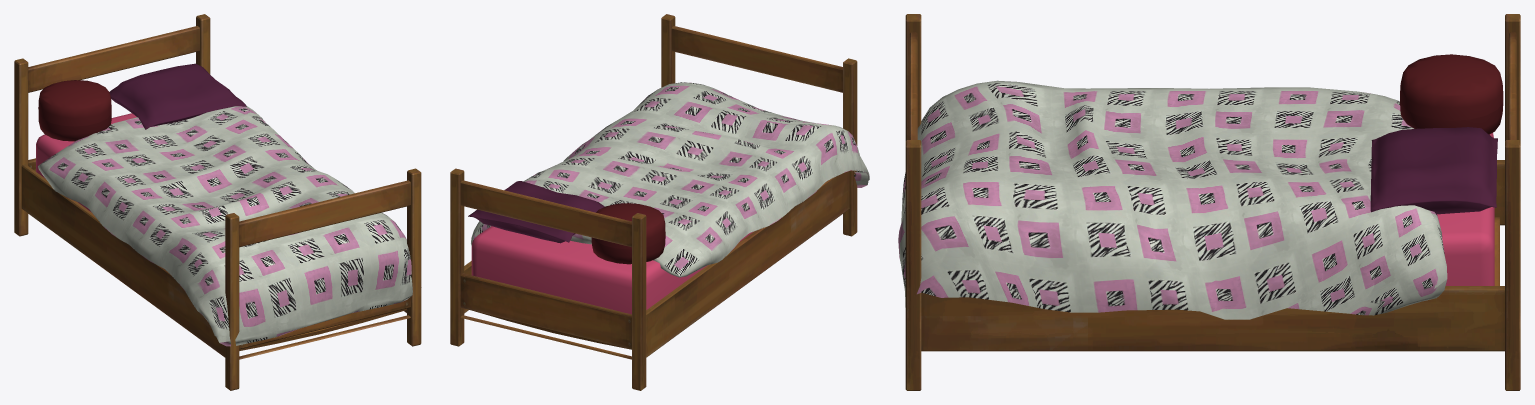
Rendered from Cama_H1.obj.
3 renders of one model, left to right at view 1: azimuth 30°, elevation 25°; view 2: azimuth 150°, elevation 25°; view 3: azimuth 270°, elevation 25°, orthographic. The views are drawn at different scales.
Visible parts, largest first — view 1: Cama_H1; view 2: Cama_H1; view 3: Cama_H1.
Boxes of the visible parts, x1,y1,x2,y2 form: Cama_H1: [14, 14, 421, 390]; Cama_H1: [450, 14, 869, 390]; Cama_H1: [898, 14, 1520, 390].
Bounding box in the file's own units: 0.9157 × 0.6636 × 1.53.
5 materials, 5 textured.
